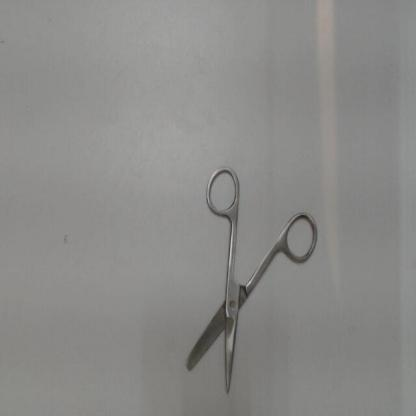Dressing Scissors: (174, 159, 323, 408)
